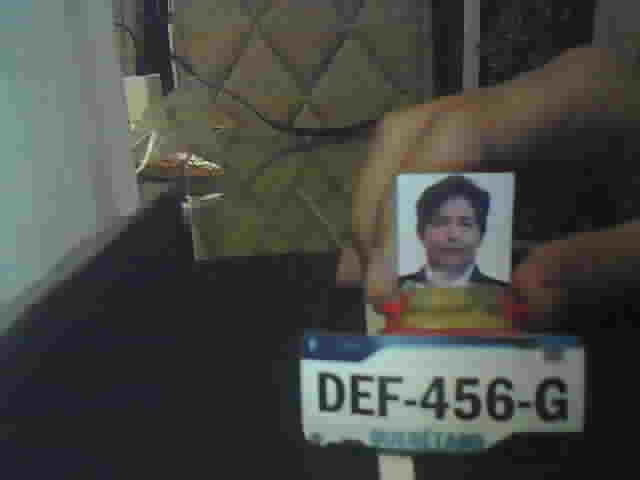PLACA: (297, 329, 589, 460)
ROSTRO: (397, 174, 514, 290)
